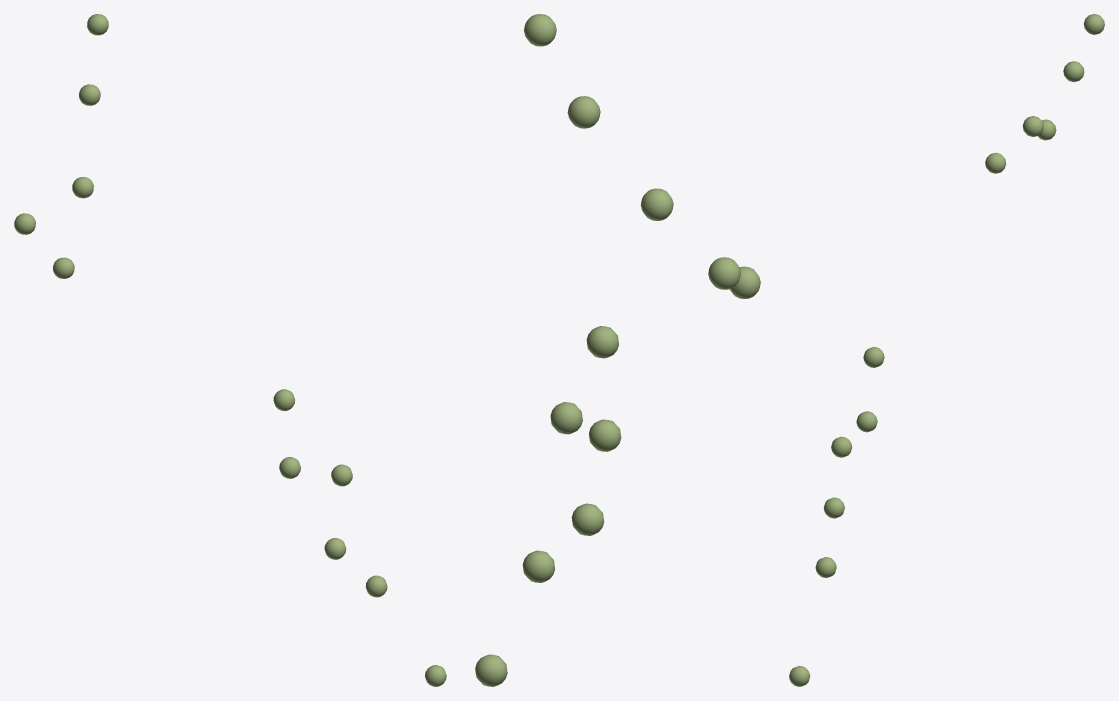
Rendered from detail-lymphatic-left-upper-limb.glb.
The picture shows the model from 3 angles, left to right: view 1: azimuth 30°, elevation 25°; view 2: azimuth 150°, elevation 25°; view 3: azimuth 270°, elevation 25°; orthographic projection. The views are drawn at different scales.
Parts seen in each view (by area): view 1: za-20f2b6944804d04d, za-4d6ee82c73084e1d; view 2: za-20f2b6944804d04d, za-4d6ee82c73084e1d; view 3: za-20f2b6944804d04d, za-4d6ee82c73084e1d.
Part boxes in pixels (box(x1,y1,x2,y2)): za-20f2b6944804d04d: box(273, 389, 446, 686); za-4d6ee82c73084e1d: box(14, 14, 108, 278); za-20f2b6944804d04d: box(475, 326, 621, 686); za-4d6ee82c73084e1d: box(524, 14, 760, 298); za-20f2b6944804d04d: box(789, 347, 884, 686); za-4d6ee82c73084e1d: box(985, 14, 1104, 173).
Bounding box in the file's own units: 0.0411 × 0.0787 × 0.0386.
